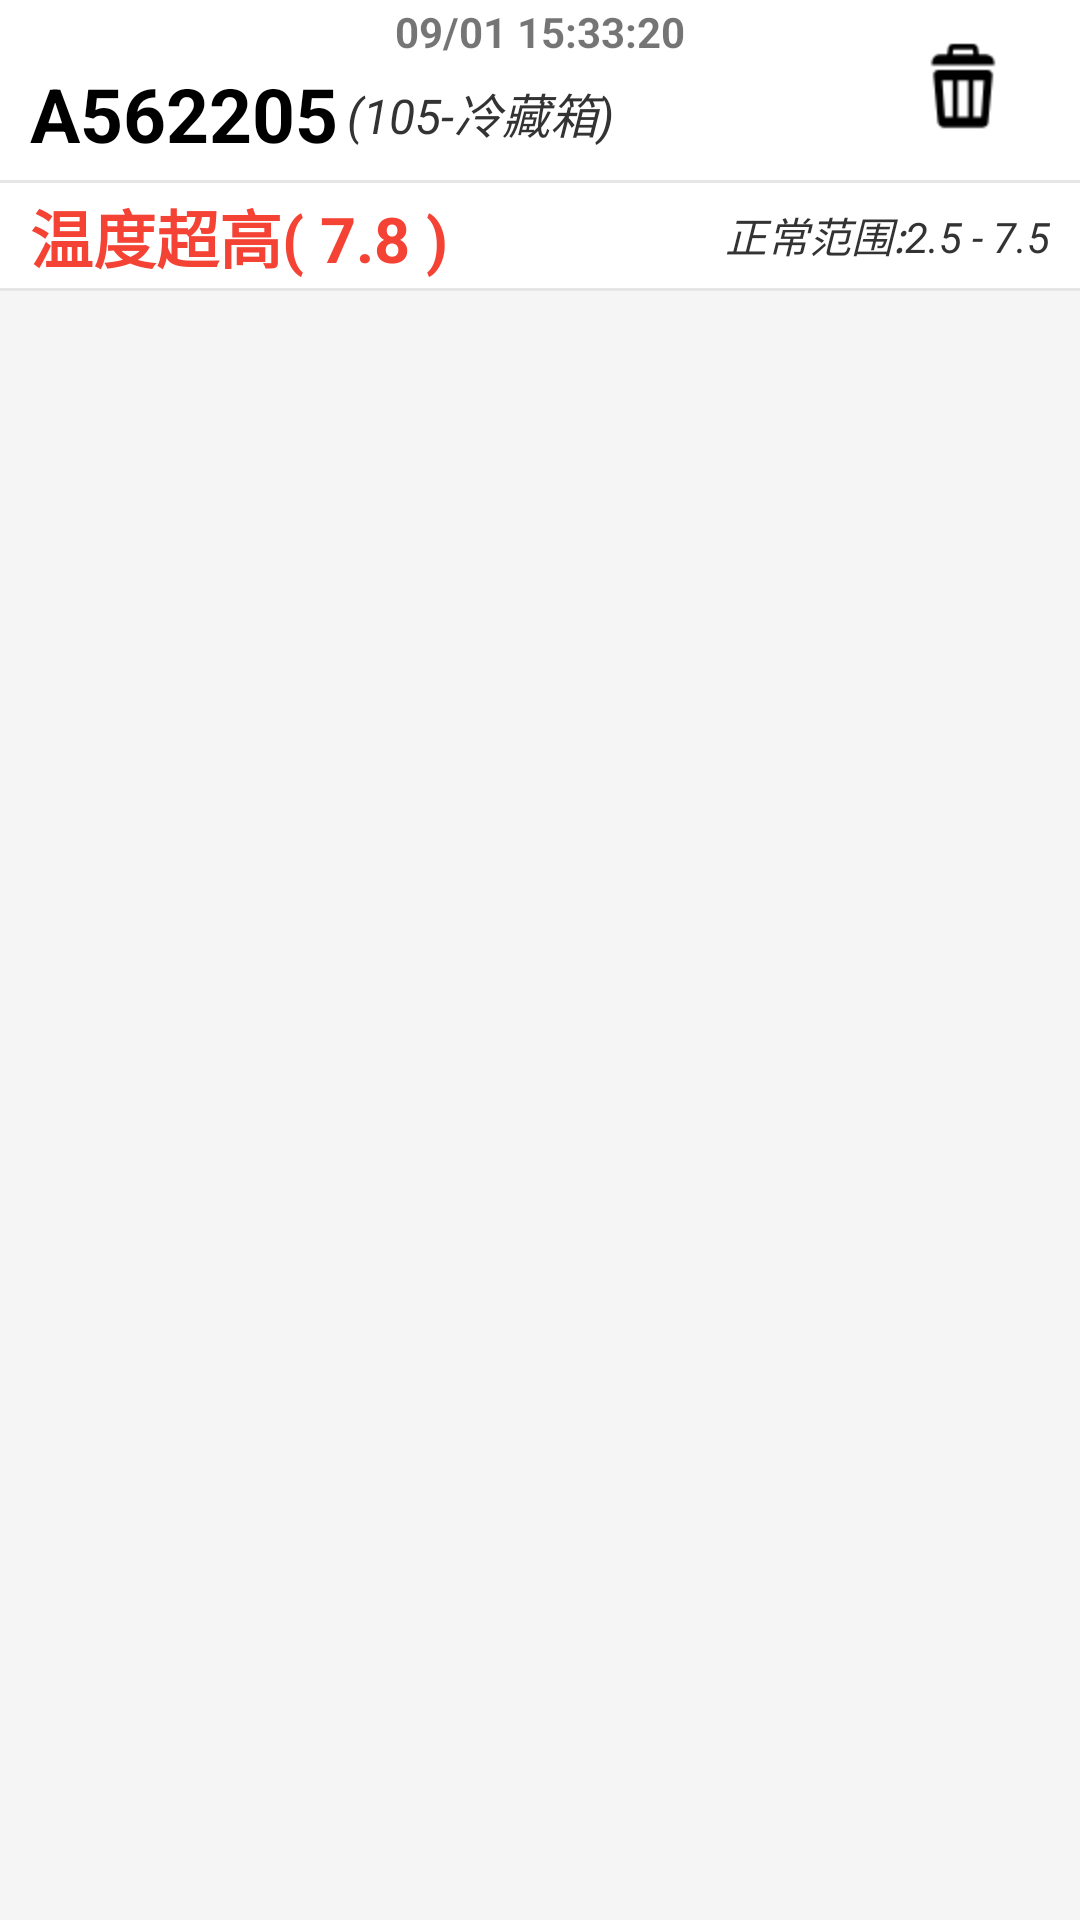

Icons on this 1080px x 1920px Android screen, each with the point to tap as (x=x, y=y):
delet: (x=963, y=86)
